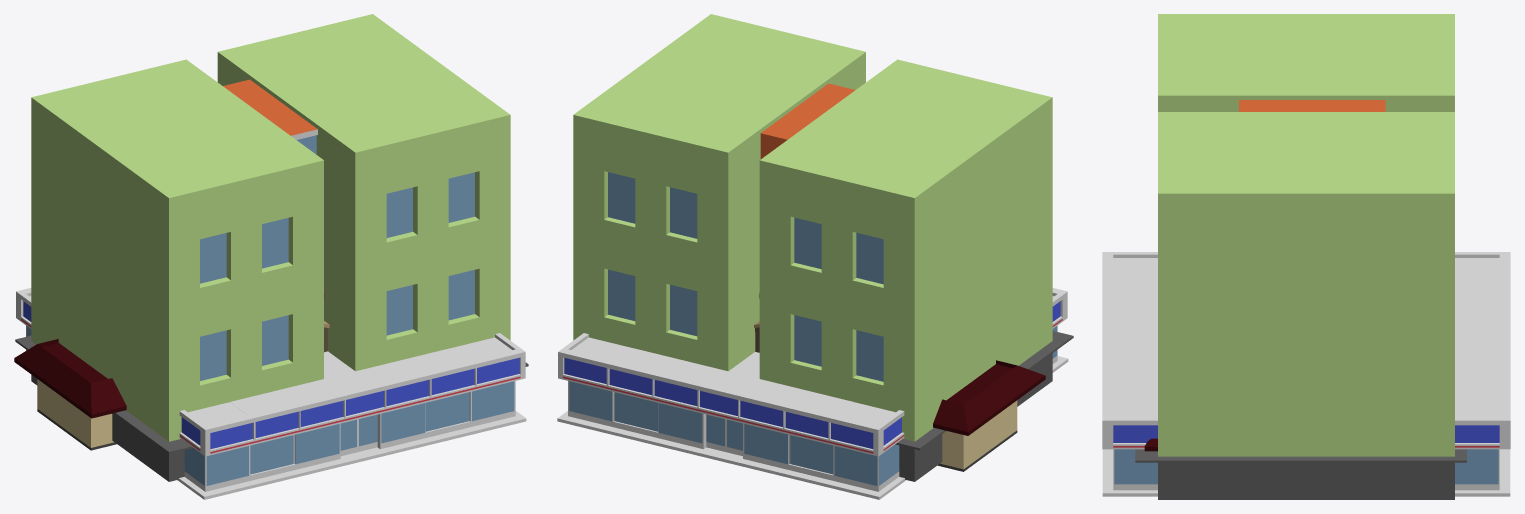
Rendered from buildings.fbx.
The picture shows the model from 3 angles, left to right: view 1: azimuth 30°, elevation 25°; view 2: azimuth 150°, elevation 25°; view 3: azimuth 270°, elevation 25°; orthographic projection. The views are drawn at different scales.
Visible parts, largest first — view 1: Cube.008, Base.001, Cube.004, Cube.003; view 2: Cube.008, Base.001, Cube.004, Cube.003; view 3: Cube.008, Base.001, Cube.003.
Part boxes in pixels (x1,y1,x2,y2): Cube.008: (15,14,528,481); Base.001: (16,288,526,499); Cube.004: (14,339,126,450); Cube.003: (223,79,317,154); Cube.008: (573,14,1073,481); Base.001: (557,288,1068,499); Cube.004: (933,360,1045,471); Cube.003: (760,83,855,159); Cube.008: (1135,14,1466,499); Base.001: (1102,252,1510,496); Cube.003: (1239,100,1385,111).
Size of the model in its own units: 3395 by 2437 by 2897.
